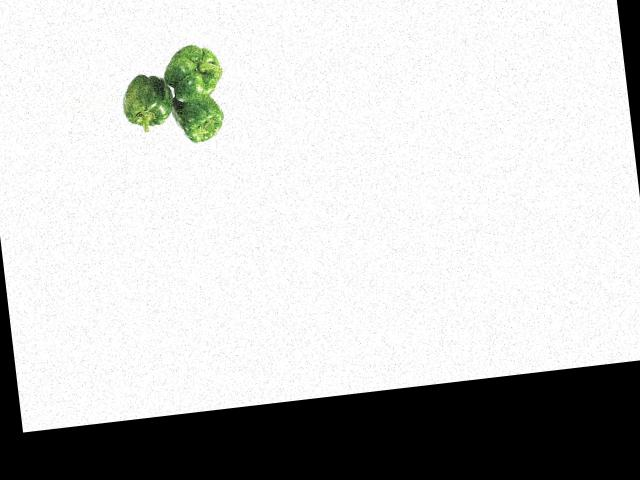bell_pepper: (160, 36, 230, 105)
